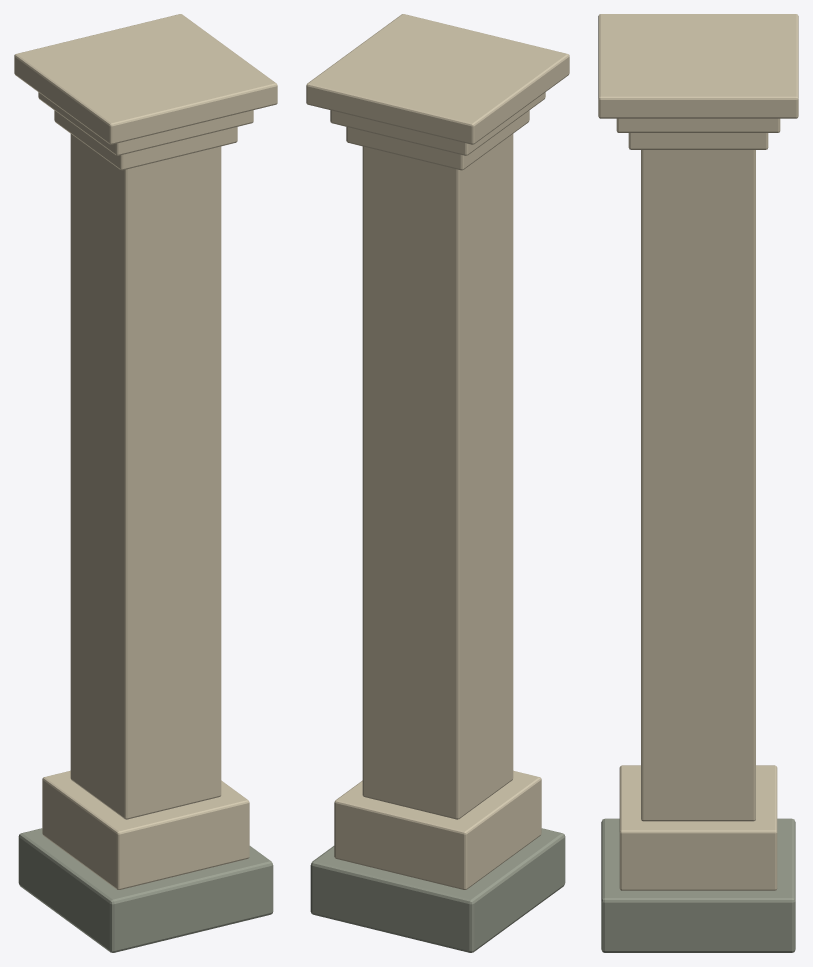
3 views of the same model, side by side, from view 1: azimuth 30°, elevation 25°; view 2: azimuth 150°, elevation 25°; view 3: azimuth 270°, elevation 25° (orthographic). The views are drawn at different scales.
Parts seen in each view (by area): view 1: COLUMN_Shaft, COLUMN_Capital, COLUMN_Foot, COLUMN_Plinth, COLUMN_Capital.001, COLUMN_Capital.002; view 2: COLUMN_Shaft, COLUMN_Capital, COLUMN_Foot, COLUMN_Plinth, COLUMN_Capital.001, COLUMN_Capital.002; view 3: COLUMN_Shaft, COLUMN_Capital, COLUMN_Foot, COLUMN_Plinth, COLUMN_Capital.002, COLUMN_Capital.001.
Part boxes in pixels (x1,y1,x2,y2): COLUMN_Shaft: (70,134,221,819); COLUMN_Capital: (14,14,277,144); COLUMN_Foot: (18,828,273,952); COLUMN_Plinth: (42,770,249,889); COLUMN_Capital.001: (54,110,237,170); COLUMN_Capital.002: (38,92,253,155); COLUMN_Shaft: (362,134,513,819); COLUMN_Capital: (306,14,569,144); COLUMN_Foot: (310,828,565,952); COLUMN_Plinth: (334,770,541,889); COLUMN_Capital.001: (346,110,529,170); COLUMN_Capital.002: (330,92,545,155); COLUMN_Shaft: (641,150,755,821); COLUMN_Capital: (598,14,798,118); COLUMN_Foot: (601,818,795,952); COLUMN_Plinth: (619,765,777,890); COLUMN_Capital.002: (616,118,780,132); COLUMN_Capital.001: (628,133,768,149).
Bounding box in the file's own units: 0.66 × 3.12 × 0.66.
